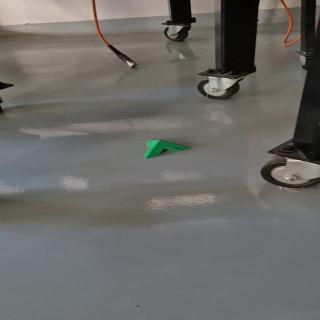eje: (142, 139, 192, 159)
